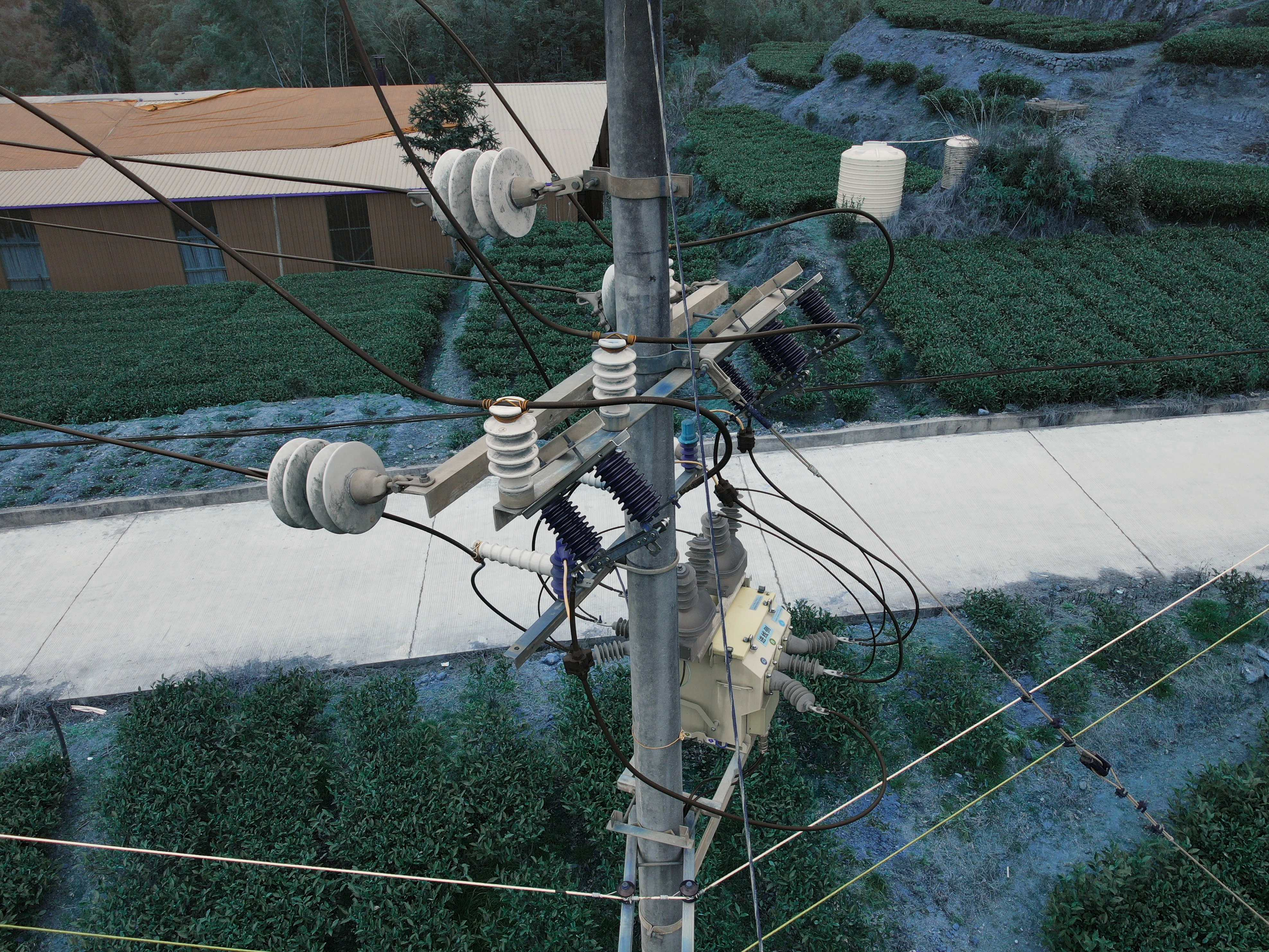severe_soiling_no_discharge_whole: (262, 435, 394, 537), (430, 145, 545, 239), (479, 395, 541, 506), (587, 332, 642, 431)
